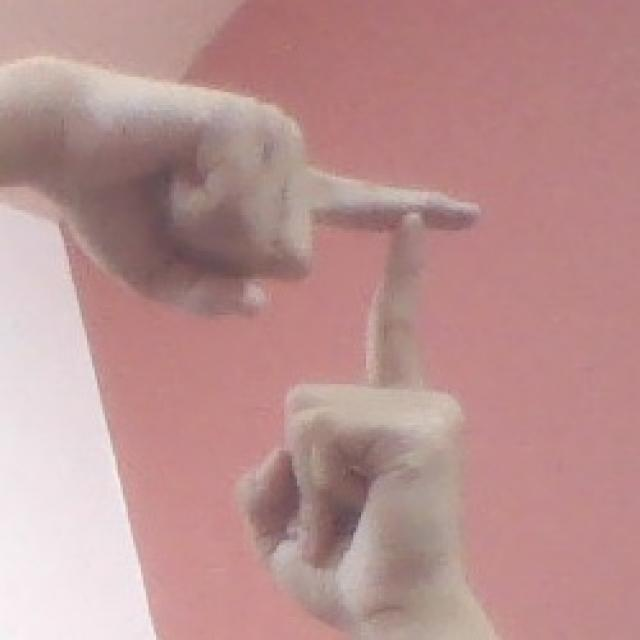Alphabet-T: (80, 51, 502, 634)
